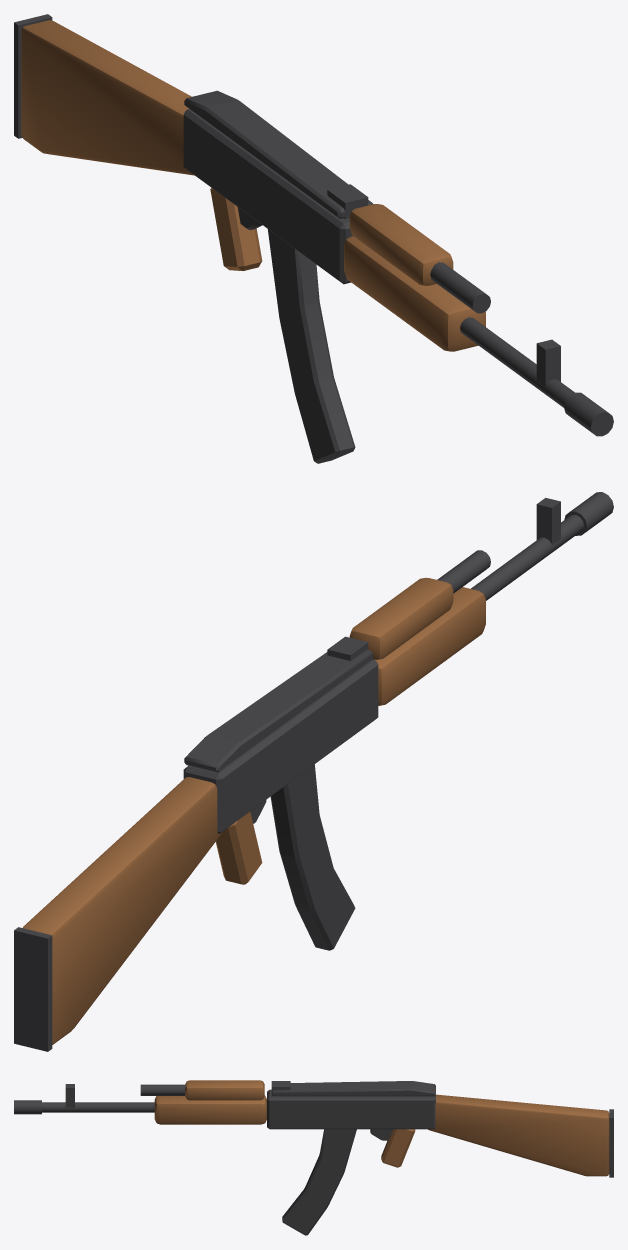
3 renders of one model, top to bottom at view 1: azimuth 30°, elevation 25°; view 2: azimuth 150°, elevation 25°; view 3: azimuth 270°, elevation 25°, orthographic. The views are drawn at different scales.
Visible parts, largest first — view 1: ak47_mesh; view 2: ak47_mesh; view 3: ak47_mesh.
Part boxes in pixels (x1=…): ak47_mesh: x1=14, y1=14, x2=613, y2=463; ak47_mesh: x1=14, y1=492, x2=613, y2=1051; ak47_mesh: x1=14, y1=1080, x2=613, y2=1235.
Size of the model in its own units: 0.056 by 0.3553 by 1.28.
